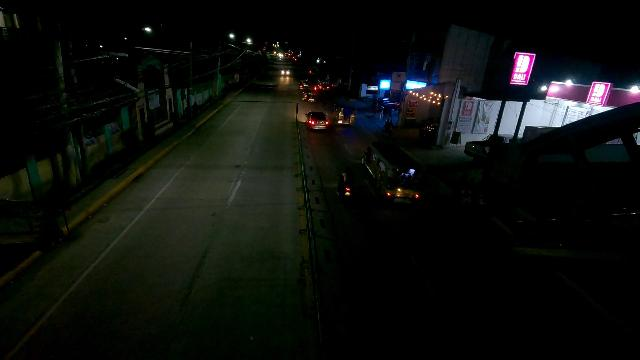car: (305, 110, 329, 132), (318, 83, 330, 94)
jeepney: (360, 141, 421, 204), (333, 101, 356, 129)
motorcycle: (337, 168, 355, 202)
